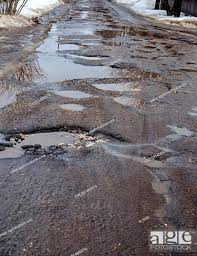potholes: (55, 88, 90, 112)
